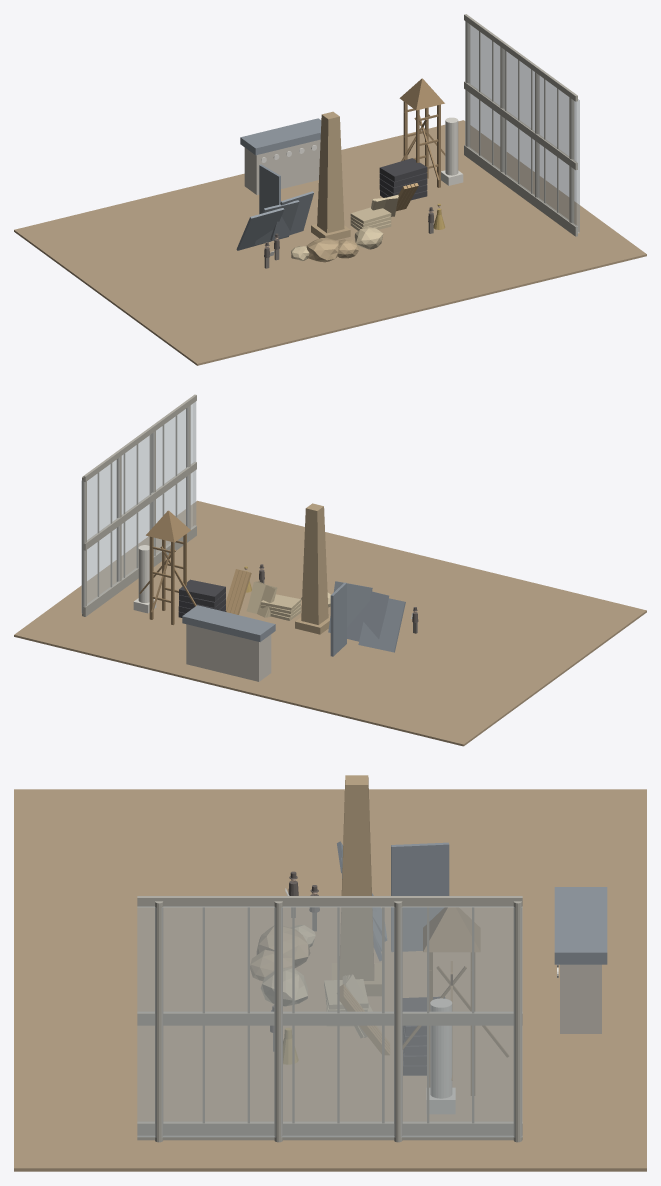
File: scan-fig24-raw-materials-west-entrance-muse.glb
The picture shows the model from 3 angles, top to bottom: view 1: azimuth 30°, elevation 25°; view 2: azimuth 150°, elevation 25°; view 3: azimuth 270°, elevation 25°; orthographic projection. The views are drawn at different scales.
Parts seen in each view (by area): view 1: Ground, FrontTier1, Obelisk, DistantBldg, DistantRoof, FrontBandBase, FrontBand, FrontBandTop, SlateSlab1, SlateSlab2, SlateUpright, ColumnShaft (+9 smaller); view 2: Ground, FrontTier1, DistantBldg, Obelisk, DistantRoof, SlateSlab1, SlateSlab0, FrontBand, SlateUpright, FrontBandBase, FrontBandTop, SlateSlab2 (+6 smaller); view 3: Ground, FrontTier1, FrontBandBase, Obelisk, FrontBand, FrontBandTop, SlateUpright, DistantRoof, DistantBldg, FrontCol.001, FrontCol.002, FrontCol (+13 smaller).
Boxes of the visible parts, x1=… form: Ground: x1=14, y1=120, x2=646, y2=365; FrontTier1: x1=465, y1=21, x2=579, y2=233; Obelisk: x1=317, y1=111, x2=344, y2=233; DistantBldg: x1=244, y1=139, x2=320, y2=194; DistantRoof: x1=240, y1=118, x2=321, y2=155; FrontBandBase: x1=464, y1=145, x2=577, y2=236; FrontBand: x1=464, y1=81, x2=577, y2=170; FrontBandTop: x1=464, y1=14, x2=577, y2=101; SlateSlab1: x1=236, y1=208, x2=284, y2=250; SlateSlab2: x1=270, y1=191, x2=313, y2=240; SlateUpright: x1=259, y1=164, x2=280, y2=214; ColumnShaft: x1=445, y1=117, x2=458, y2=175; Ground: x1=14, y1=500, x2=646, y2=746; FrontTier1: x1=81, y1=402, x2=196, y2=613; DistantBldg: x1=186, y1=624, x2=271, y2=681; Obelisk: x1=301, y1=503, x2=328, y2=624; DistantRoof: x1=182, y1=605, x2=275, y2=641; SlateSlab1: x1=358, y1=598, x2=405, y2=652; SlateSlab0: x1=347, y1=591, x2=389, y2=641; FrontBand: x1=83, y1=462, x2=196, y2=550; SlateUpright: x1=330, y1=582, x2=346, y2=656; FrontBandBase: x1=83, y1=525, x2=196, y2=616; FrontBandTop: x1=83, y1=394, x2=196, y2=481; SlateSlab2: x1=328, y1=581, x2=372, y2=632; Ground: x1=14, y1=789, x2=646, y2=1171; FrontTier1: x1=137, y1=906, x2=522, y2=1137; FrontBandBase: x1=137, y1=1122, x2=522, y2=1140; Obelisk: x1=340, y1=775, x2=373, y2=980; FrontBand: x1=137, y1=1012, x2=522, y2=1025; FrontBandTop: x1=137, y1=896, x2=522, y2=907; SlateUpright: x1=391, y1=842, x2=449, y2=951; DistantRoof: x1=554, y1=887, x2=607, y2=964; DistantBldg: x1=560, y1=964, x2=601, y2=1033; FrontCol.001: x1=274, y1=901, x2=282, y2=1142; FrontCol.002: x1=394, y1=901, x2=402, y2=1142; FrontCol: x1=155, y1=901, x2=163, y2=1142.
Size of the model in its own units: 34 by 10.33 by 24.
